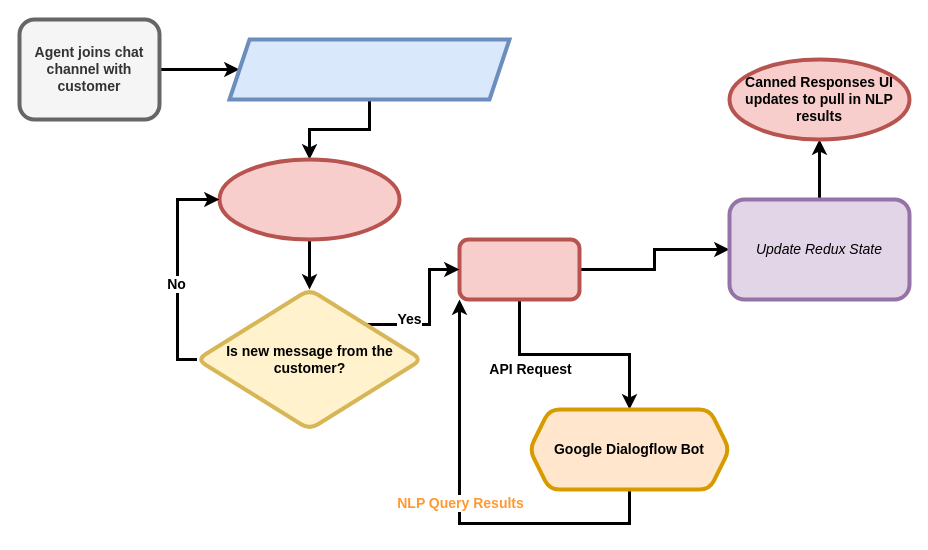
Image size: 928x550. Some labels were removed from this diagram. The box of each missing label's shape, as (x1, y1, x2, y2) in pixels:
HiddenTaskListItem Component listens for new message: (217, 157, 401, 241)
New message is added to the chat: (227, 37, 511, 101)
Twilio Function: (457, 237, 581, 301)
